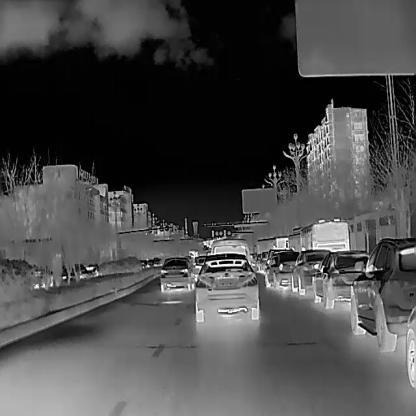car: (351, 236, 416, 352), (195, 252, 260, 322), (313, 248, 365, 308), (288, 215, 349, 248), (289, 249, 325, 293), (160, 255, 195, 293), (263, 249, 296, 286), (208, 237, 248, 256), (256, 234, 287, 255)
